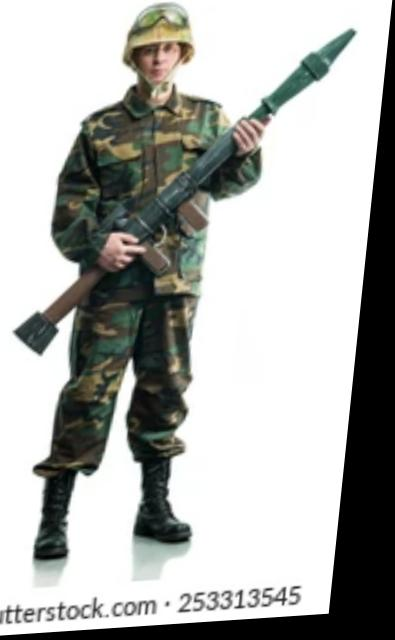other: (34, 0, 284, 559)
